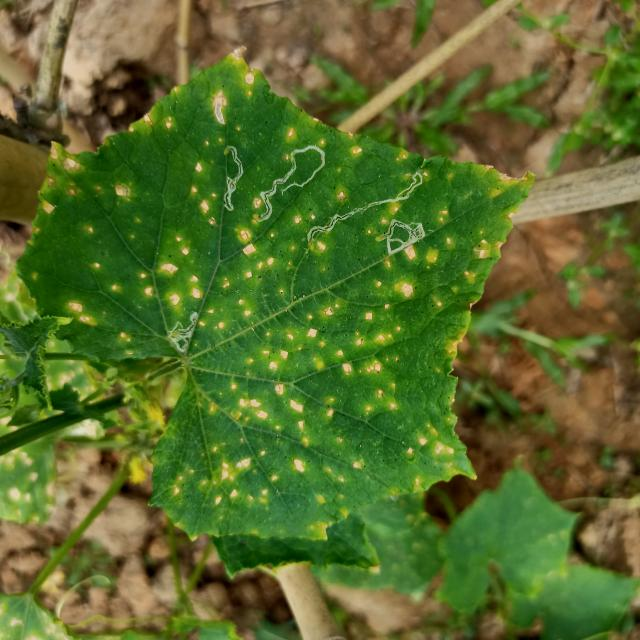disease_cucumber: (37, 74, 441, 354), (154, 242, 516, 530)
